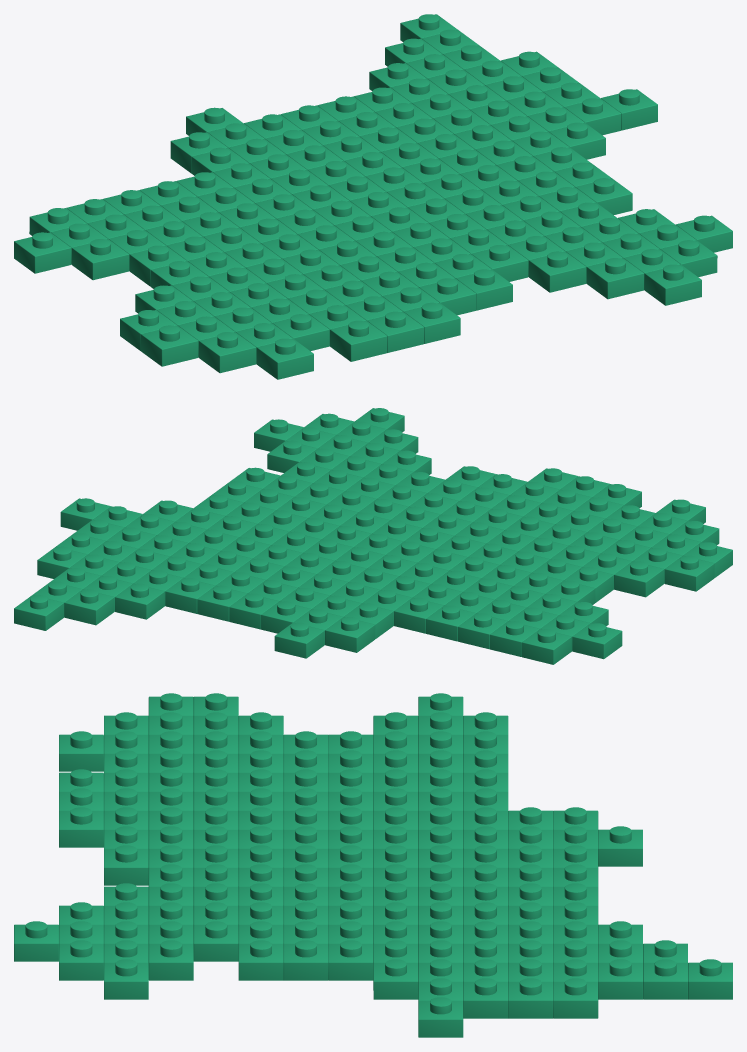
The model's file is Yakutsk.fbx.
The picture shows the model from 3 angles, top to bottom: view 1: azimuth 30°, elevation 25°; view 2: azimuth 150°, elevation 25°; view 3: azimuth 270°, elevation 25°; orthographic projection. The views are drawn at different scales.
Parts seen in each view (by area): view 1: Cylinder_119; view 2: Cylinder_119; view 3: Cylinder_119.
Part boxes in pixels (<box>): Cylinder_119: <box>14,14,732,379</box>; Cylinder_119: <box>14,408,732,664</box>; Cylinder_119: <box>14,693,732,1037</box>.
Size of the model in its own units: 1700 by 65.03 by 1600.
